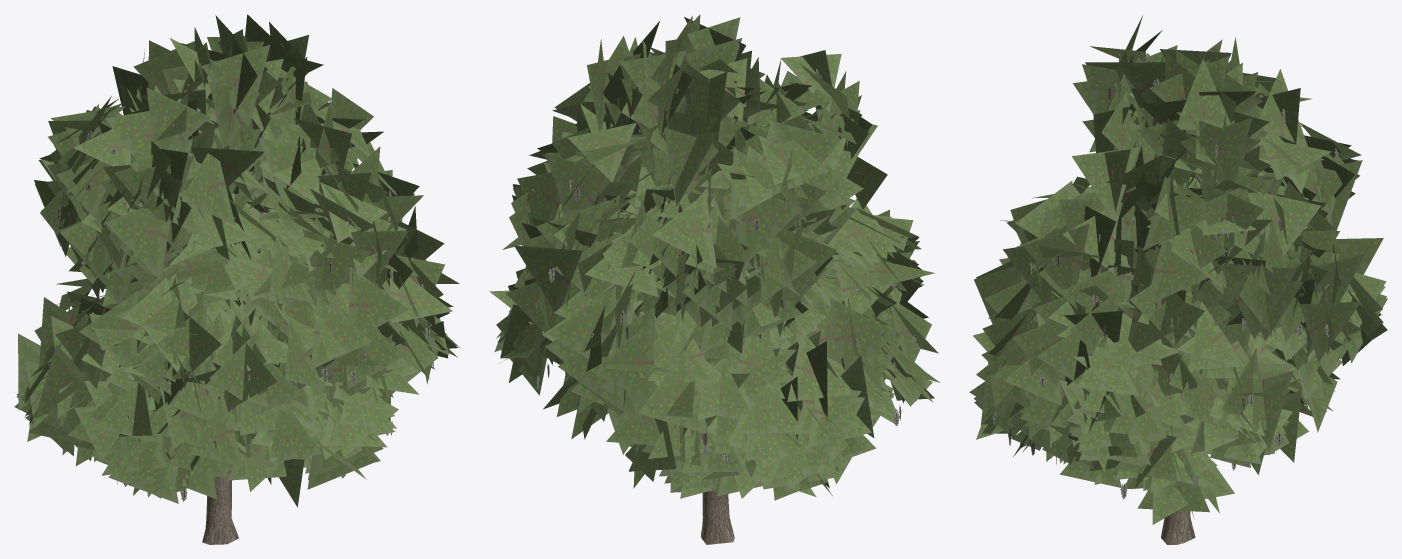
File: Robinia_Pseudoacacia_Spring_Adult.glb
3 views of the same model, side by side, from view 1: azimuth 30°, elevation 25°; view 2: azimuth 150°, elevation 25°; view 3: azimuth 270°, elevation 25° (orthographic). The views are drawn at different scales.
Visible parts, largest first — view 1: Robinia_Pseudoacacia_Spring_Adult__LOD3; view 2: Robinia_Pseudoacacia_Spring_Adult__LOD3; view 3: Robinia_Pseudoacacia_Spring_Adult__LOD3.
Boxes of the visible parts, <box> form: Robinia_Pseudoacacia_Spring_Adult__LOD3: <box>14,14,459,544</box>; Robinia_Pseudoacacia_Spring_Adult__LOD3: <box>489,14,940,544</box>; Robinia_Pseudoacacia_Spring_Adult__LOD3: <box>969,15,1387,544</box>.
Bounding box in the file's own units: 20.63 × 26.63 × 20.23.
3 materials, 3 textured.
